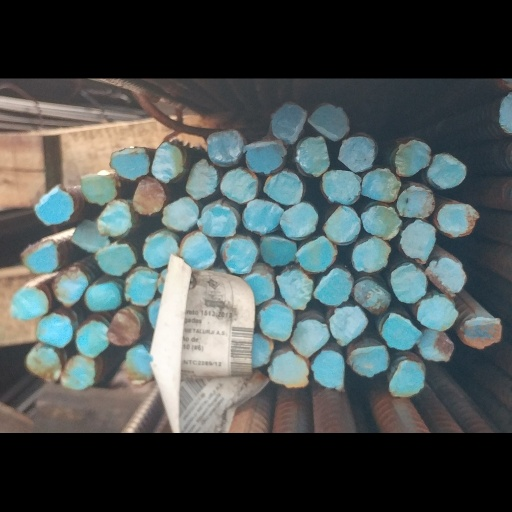dipstick: (265, 27, 311, 93), (398, 200, 442, 269), (307, 29, 352, 91), (31, 153, 77, 211), (274, 270, 315, 335), (72, 337, 111, 405), (195, 173, 242, 229), (176, 219, 223, 275), (313, 269, 355, 331), (22, 379, 62, 444), (422, 103, 470, 157), (311, 390, 351, 454), (424, 256, 468, 314), (17, 228, 65, 281), (389, 264, 429, 327), (351, 220, 392, 281), (327, 326, 368, 387), (94, 174, 137, 232), (237, 171, 284, 224), (377, 338, 423, 392), (50, 270, 91, 330), (385, 402, 427, 460), (359, 175, 401, 233), (9, 291, 51, 349), (201, 70, 246, 124), (435, 174, 479, 229), (321, 182, 362, 241), (243, 87, 288, 140), (337, 77, 378, 135), (350, 286, 394, 340), (393, 83, 433, 142), (290, 343, 330, 402), (293, 80, 331, 142), (93, 236, 140, 286), (458, 341, 504, 392), (345, 384, 391, 435), (219, 127, 262, 181), (417, 310, 459, 365), (414, 357, 456, 412), (120, 383, 156, 447), (320, 130, 363, 182), (62, 392, 99, 452), (106, 96, 152, 144), (150, 90, 185, 153), (258, 322, 294, 382), (220, 226, 260, 280), (79, 132, 122, 182), (396, 154, 437, 205), (279, 179, 320, 230), (128, 141, 166, 196), (298, 226, 337, 279), (185, 112, 218, 174), (106, 331, 142, 387), (263, 131, 303, 181), (161, 169, 200, 220), (72, 202, 114, 249), (123, 270, 158, 326), (258, 223, 297, 273), (141, 214, 175, 270), (36, 338, 74, 388), (244, 269, 278, 324), (272, 396, 308, 446), (85, 288, 123, 335), (250, 366, 272, 418)
